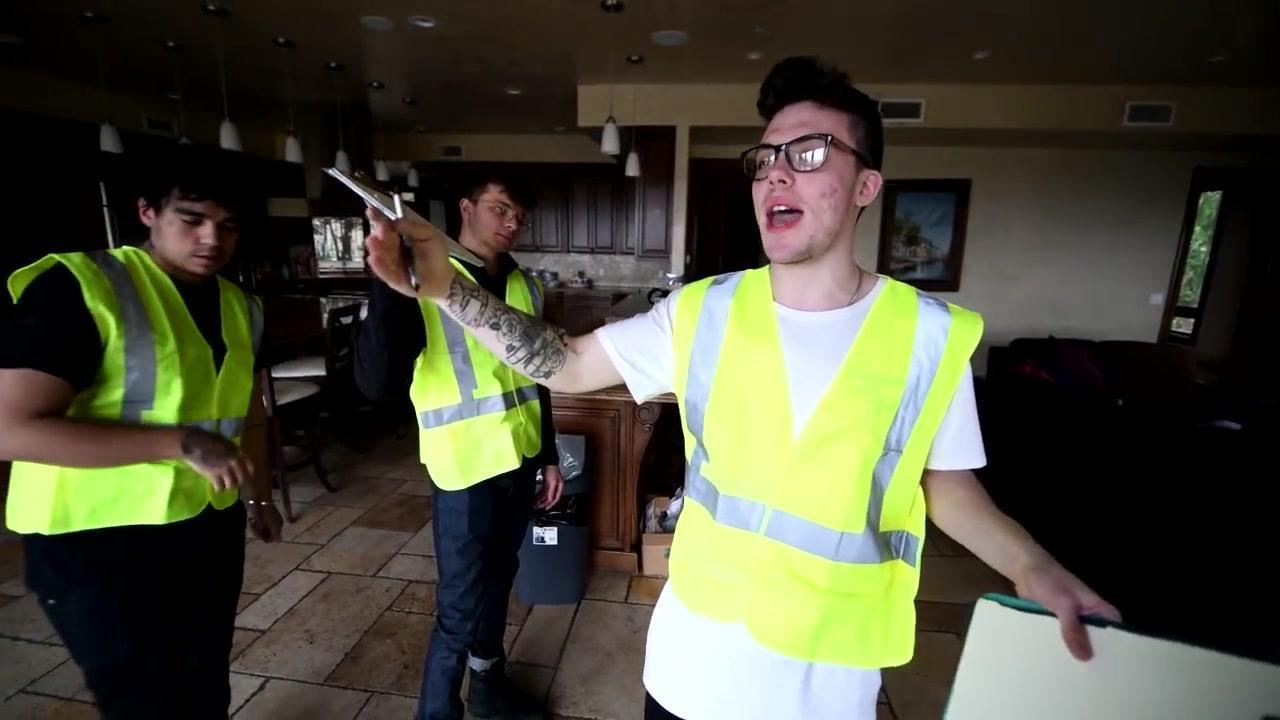vest: (675, 265, 987, 666), (3, 248, 264, 534), (408, 257, 548, 492)
